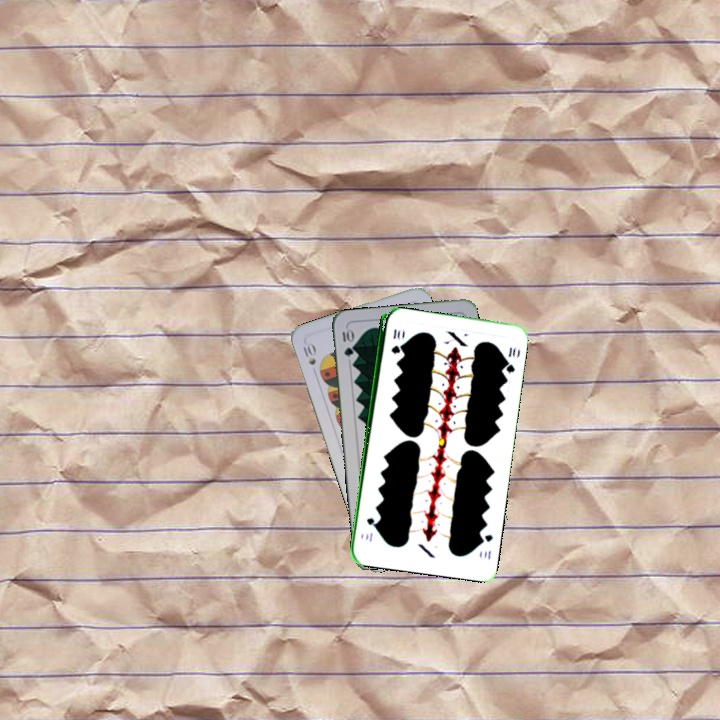G10: (475, 530, 495, 562), (338, 325, 356, 359), (387, 325, 403, 356)
S10: (299, 340, 319, 368)
